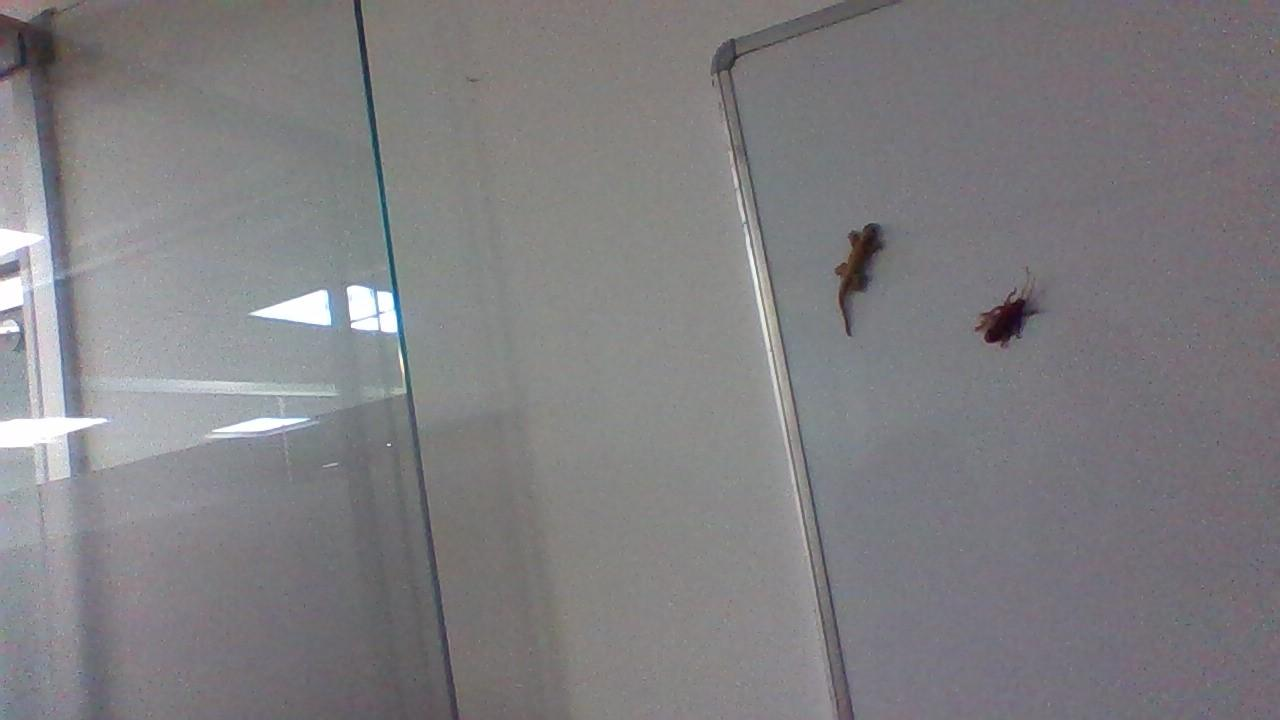cockroach: (963, 272, 1053, 354)
lizard: (825, 219, 885, 344)
